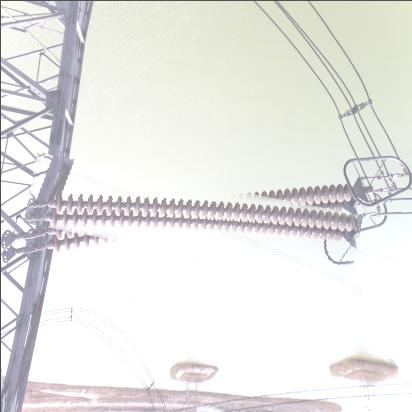insulator: (26, 167, 362, 271)
